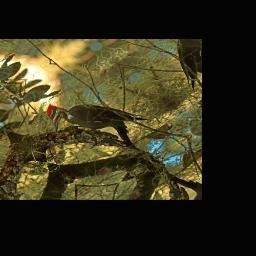Woodpecker: (34, 75, 151, 160)
